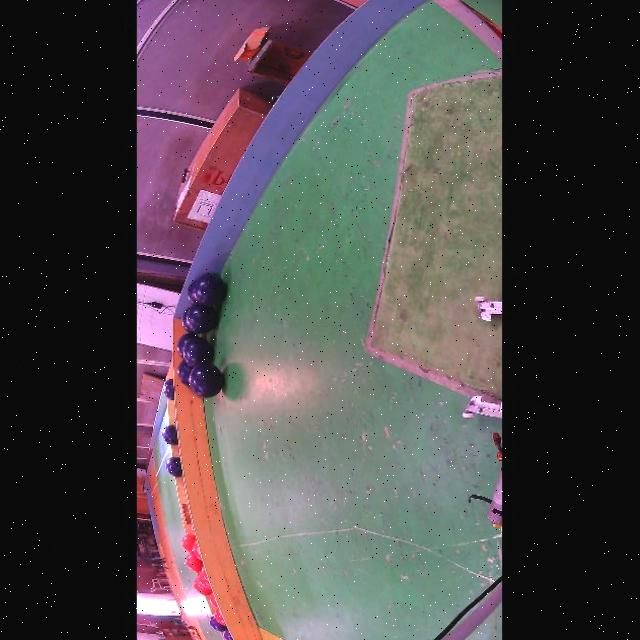B: (187, 363, 222, 398), (191, 275, 225, 306), (184, 305, 216, 334), (182, 337, 211, 367), (175, 333, 196, 358), (175, 360, 191, 386), (164, 456, 181, 478), (160, 424, 176, 445), (179, 308, 192, 333), (186, 281, 197, 305), (163, 379, 172, 400)
P: (207, 616, 225, 631), (221, 630, 232, 640)
R: (183, 554, 201, 573), (192, 579, 210, 596), (179, 534, 194, 553), (195, 578, 210, 592), (196, 573, 209, 589), (212, 609, 224, 626), (191, 541, 200, 560), (207, 593, 216, 609), (198, 567, 206, 581)
